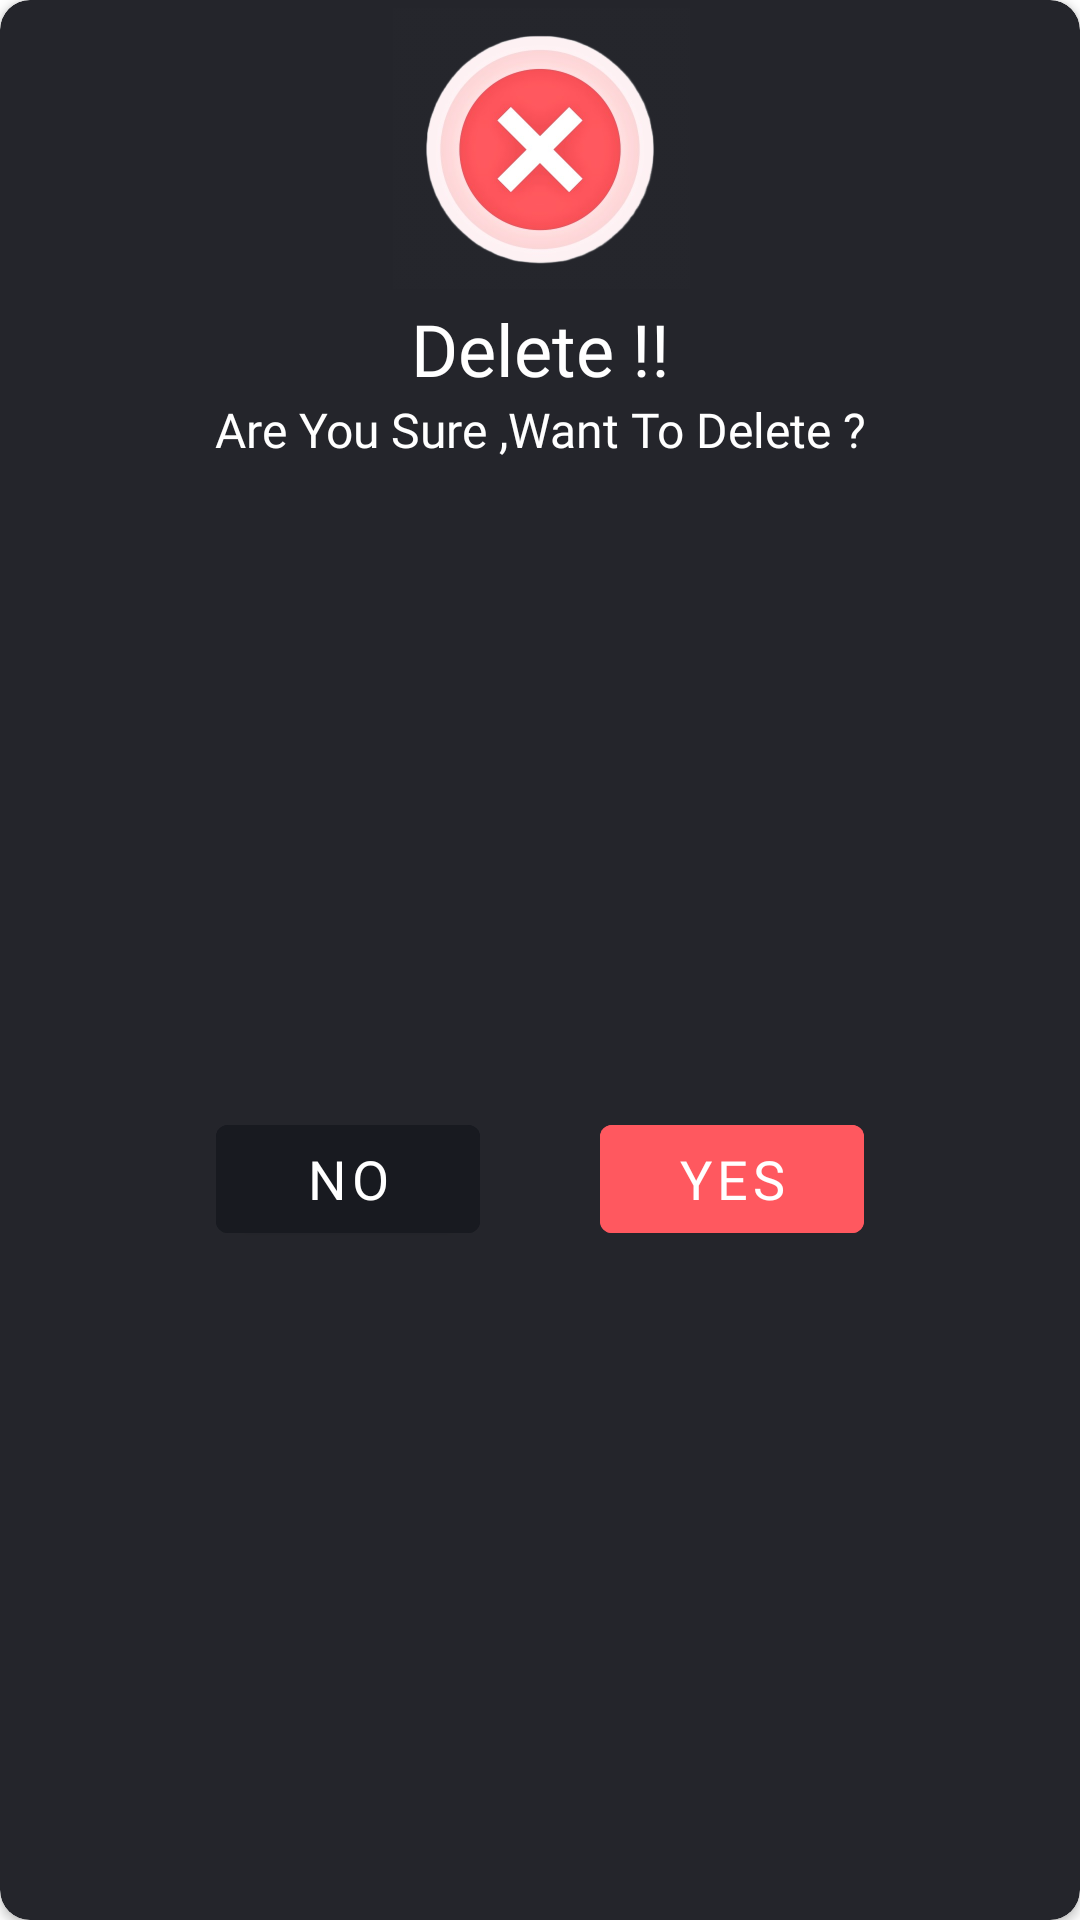

Icons on this 1080px×1920px Android screen, each with the point to tap as [x,y]:
errorform: [540,150]
